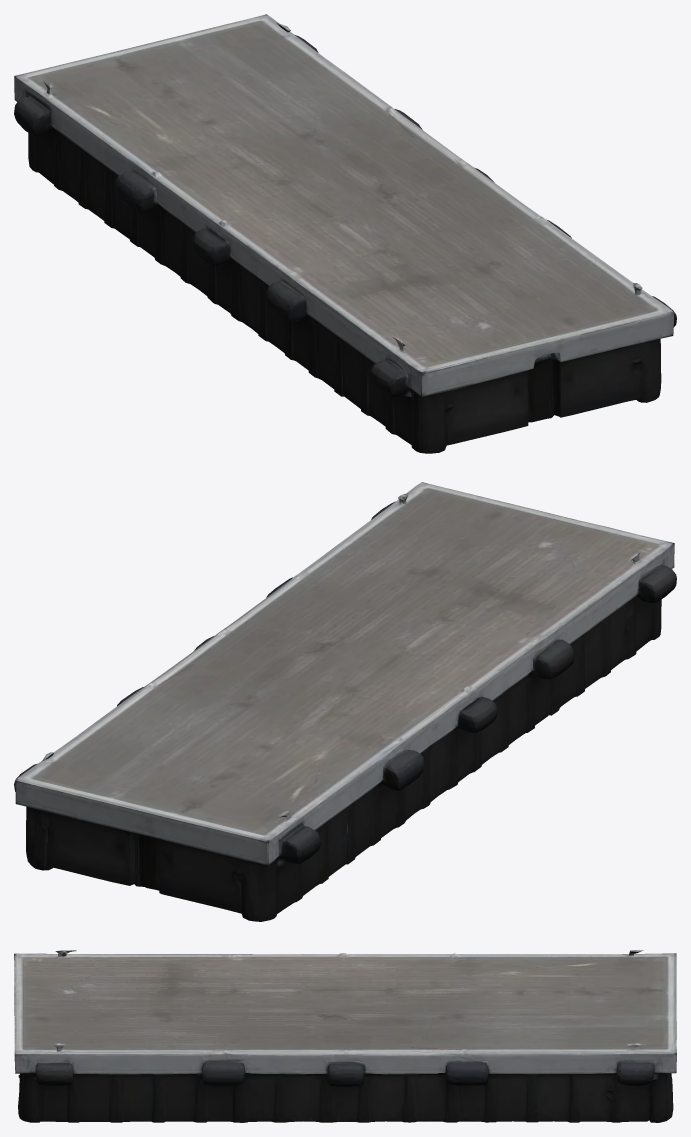
File: pontoon.glb
The picture shows the model from 3 angles, top to bottom: view 1: azimuth 30°, elevation 25°; view 2: azimuth 150°, elevation 25°; view 3: azimuth 270°, elevation 25°; orthographic projection. The views are drawn at different scales.
Visible parts, largest first — view 1: geometry_0; view 2: geometry_0; view 3: geometry_0.
Part boxes in pixels (left/top/right/bottom): geometry_0: left=14, top=14, right=676, bottom=453; geometry_0: left=14, top=482, right=676, bottom=921; geometry_0: left=14, top=950, right=676, bottom=1122.
Bounding box in the file's own units: 0.4123 × 0.1311 × 0.9989.
Materials: 1 (1 with a texture image).
